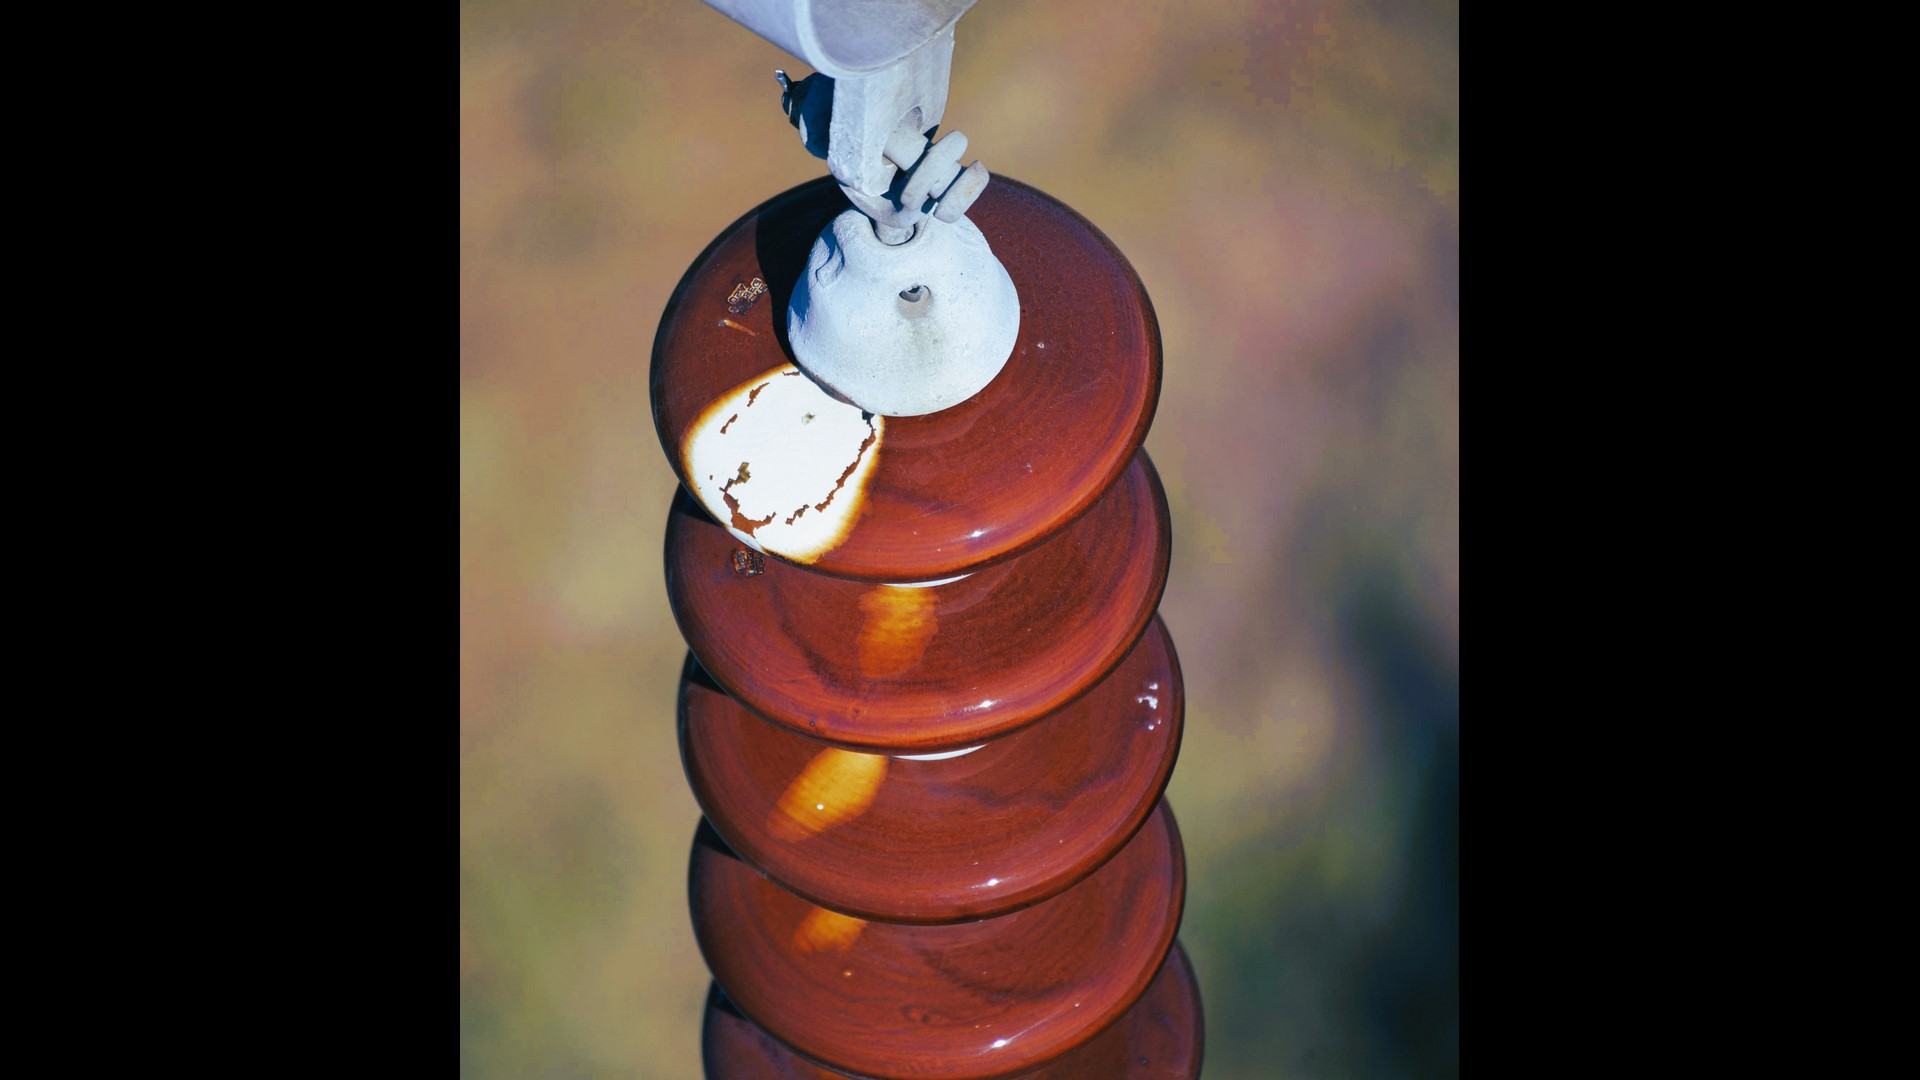Insulator flashover: (640, 160, 1178, 593)
